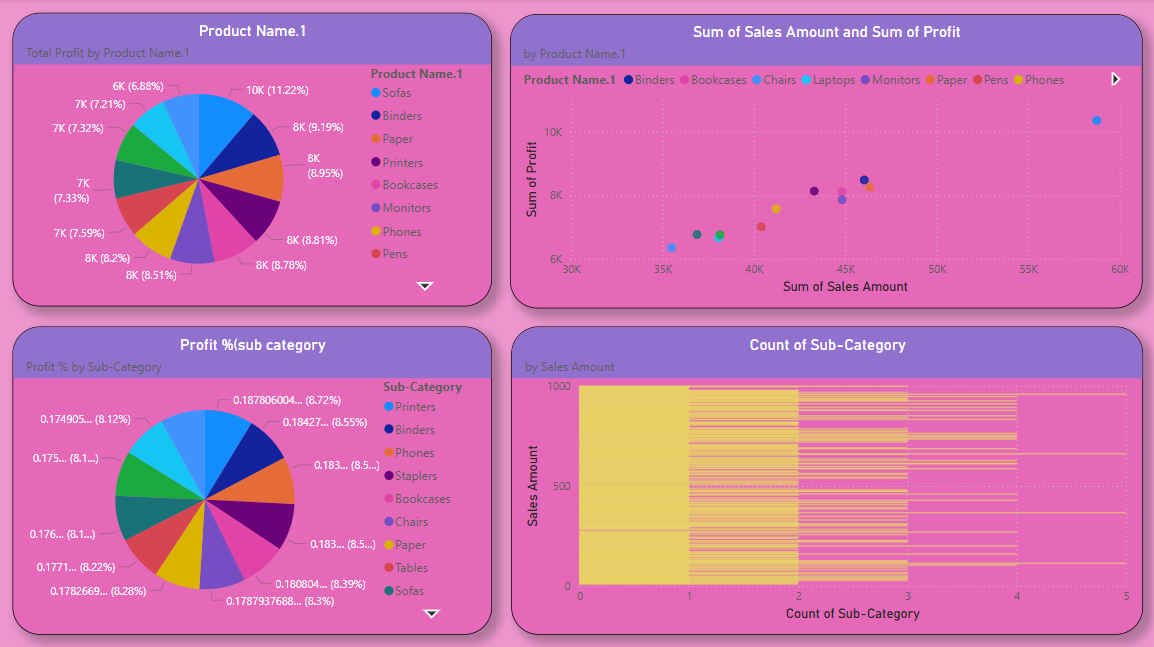

Layout of this report page (visuals, bound fields, positions):
{"tool":"powerbi","page":{"name":"Page 3","canvas":[1280,720],"ordinal":2},"visuals":[{"type":"pieChart","title":"Profit %(sub category","fields":{"Category":["Sheet1.Sub-Category"],"Y":["Sheet1.Profit %"]},"box":[18.6,360,526.1,338.3],"z":0},{"type":"barChart","fields":{"Category":["Sheet1.Sales Amount"],"Y":["CountNonNull(Sheet1.Sub-Category)"]},"box":[566.4,360,693.7,338.3],"z":1000},{"type":"pieChart","title":"Product Name.1","fields":{"Category":["Sheet1.Product Name.1"],"Y":["Sheet1.Total Profit"]},"box":[18.6,15.5,526.1,322.8],"z":2000},{"type":"scatterChart","fields":{"X":["Sum(Sheet1.Sales Amount)"],"Y":["Sum(Sheet1.Profit)"],"Series":["Sheet1.Product Name.1"]},"box":[566,16,694,323],"z":3000}]}

Visuals, with their boxes in screenshot pixels (x1, y1, x2, y2), scaled from the page's 1280x720 canvas onto the 1154x647 screenshot:
"Profit %(sub category" pieChart: {"left": 17, "top": 324, "right": 491, "bottom": 628}
barChart - Sheet1.Sales Amount x CountNonNull(Sheet1.Sub-Category): {"left": 511, "top": 324, "right": 1136, "bottom": 628}
"Product Name.1" pieChart: {"left": 17, "top": 14, "right": 491, "bottom": 304}
scatterChart - Sum(Sheet1.Sales Amount) x Sum(Sheet1.Profit): {"left": 510, "top": 14, "right": 1136, "bottom": 305}
